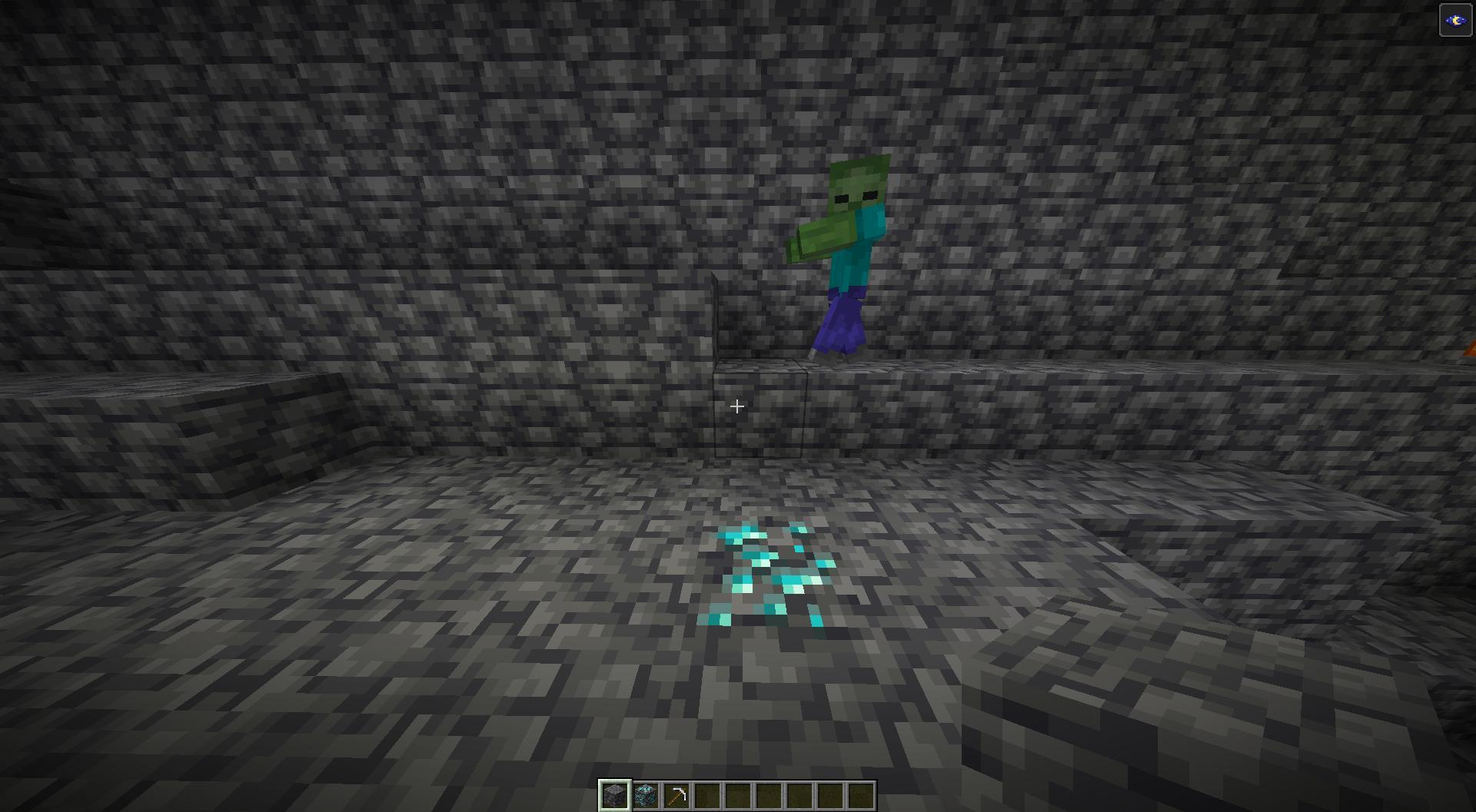diamond ore: (701, 520, 835, 635)
